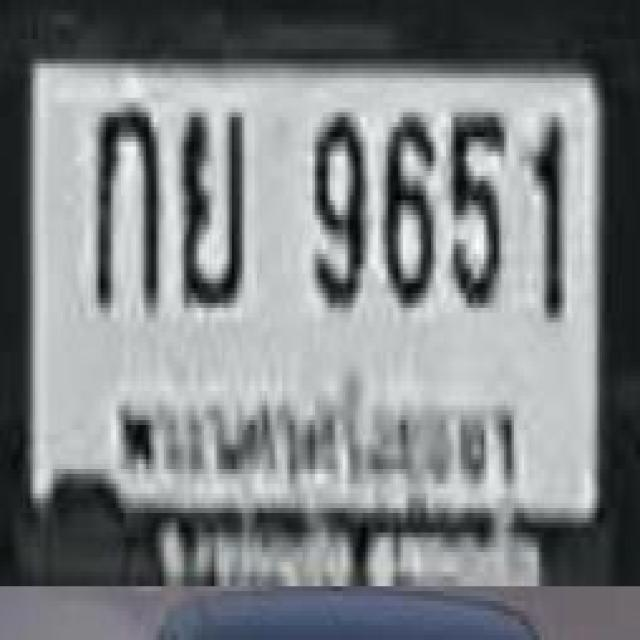license_plate: (2, 5, 638, 583)
